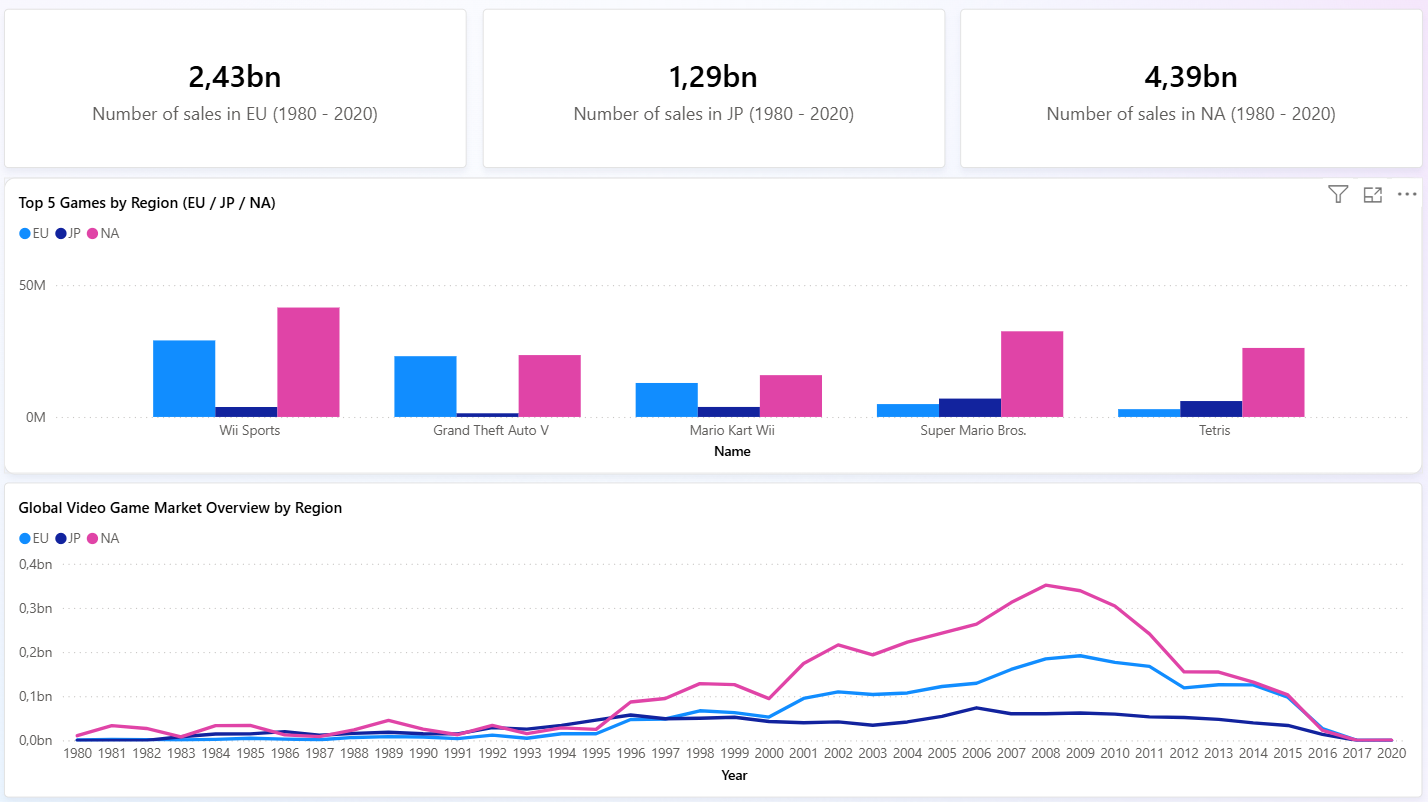

This screenshot's page, from the dashboard's own definition file:
{"tool":"powerbi","page":{"name":"Breakdown by Region","canvas":[1280,720],"ordinal":1},"visuals":[{"type":"clusteredColumnChart","title":"Top 5 Games by Region (EU / JP / NA)","fields":{"Y":["Sum(vgsales.EU_Sales)","Sum(vgsales.JP_Sales)","Sum(vgsales.NA_Sales)"],"Category":["vgsales.Name"]},"box":[9.1,157.3,1260.9,263.6],"z":0},{"type":"lineChart","title":"Global Video Game Market Overview by Region","fields":{"Category":["vgsales.Year"],"Y":["Sum(vgsales.EU_Sales)","Sum(vgsales.JP_Sales)","Sum(vgsales.NA_Sales)"]},"box":[9.1,429.1,1260.9,280],"z":1},{"type":"card","fields":{"Values":["Sum(vgsales.EU_Sales)"]},"box":[9.1,7.3,410.9,141.8],"z":2},{"type":"card","fields":{"Values":["Sum(vgsales.JP_Sales)"]},"box":[434.5,7.3,410.9,141.8],"z":3},{"type":"card","fields":{"Values":["Sum(vgsales.NA_Sales)"]},"box":[859.1,7.3,410.9,141.8],"z":4}]}

Visuals, with their boxes in screenshot pixels (x1, y1, x2, y2), scaled from the page's 1280x720 canvas onto the 1428x802 screenshot:
"Top 5 Games by Region (EU / JP / NA)" clusteredColumnChart: (10, 175, 1417, 469)
"Global Video Game Market Overview by Region" lineChart: (10, 478, 1417, 790)
card - Sum(vgsales.EU_Sales): (10, 8, 469, 166)
card - Sum(vgsales.JP_Sales): (485, 8, 943, 166)
card - Sum(vgsales.NA_Sales): (958, 8, 1417, 166)
